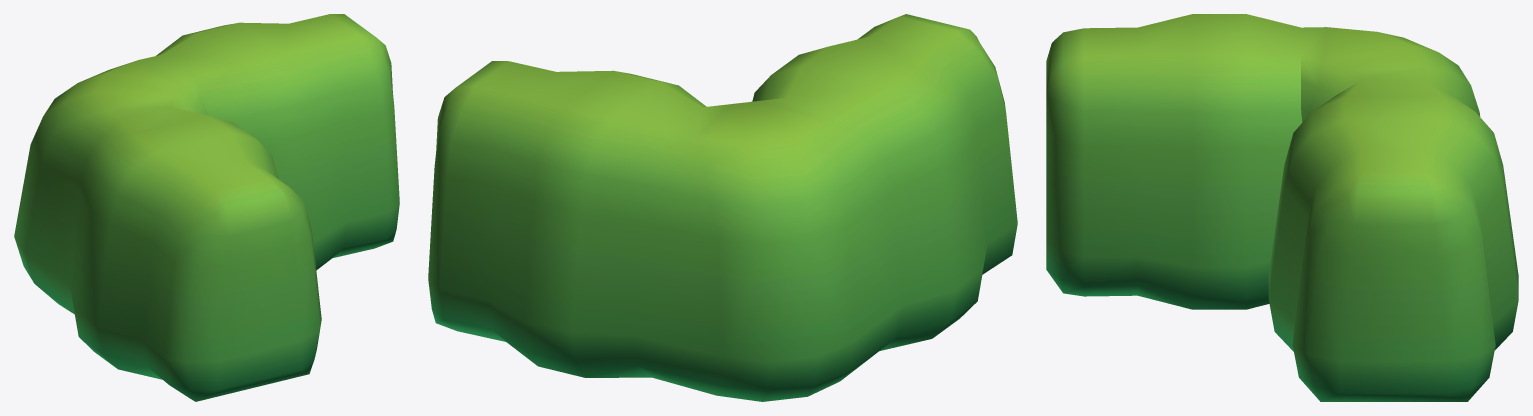
The model's file is Hedge Corner-transformed.glb.
The picture shows the model from 3 angles, left to right: view 1: azimuth 30°, elevation 25°; view 2: azimuth 150°, elevation 25°; view 3: azimuth 270°, elevation 25°; orthographic projection. The views are drawn at different scales.
Parts seen in each view (by area): view 1: hedge_corner; view 2: hedge_corner; view 3: hedge_corner.
Part boxes in pixels (bbox=[...]): hedge_corner: bbox=[14, 14, 399, 401]; hedge_corner: bbox=[428, 14, 1017, 401]; hedge_corner: bbox=[1046, 14, 1518, 401].
Bounding box in the file's own units: 2.75 × 1.5 × 2.75.
Materials: 1 (1 with a texture image).
